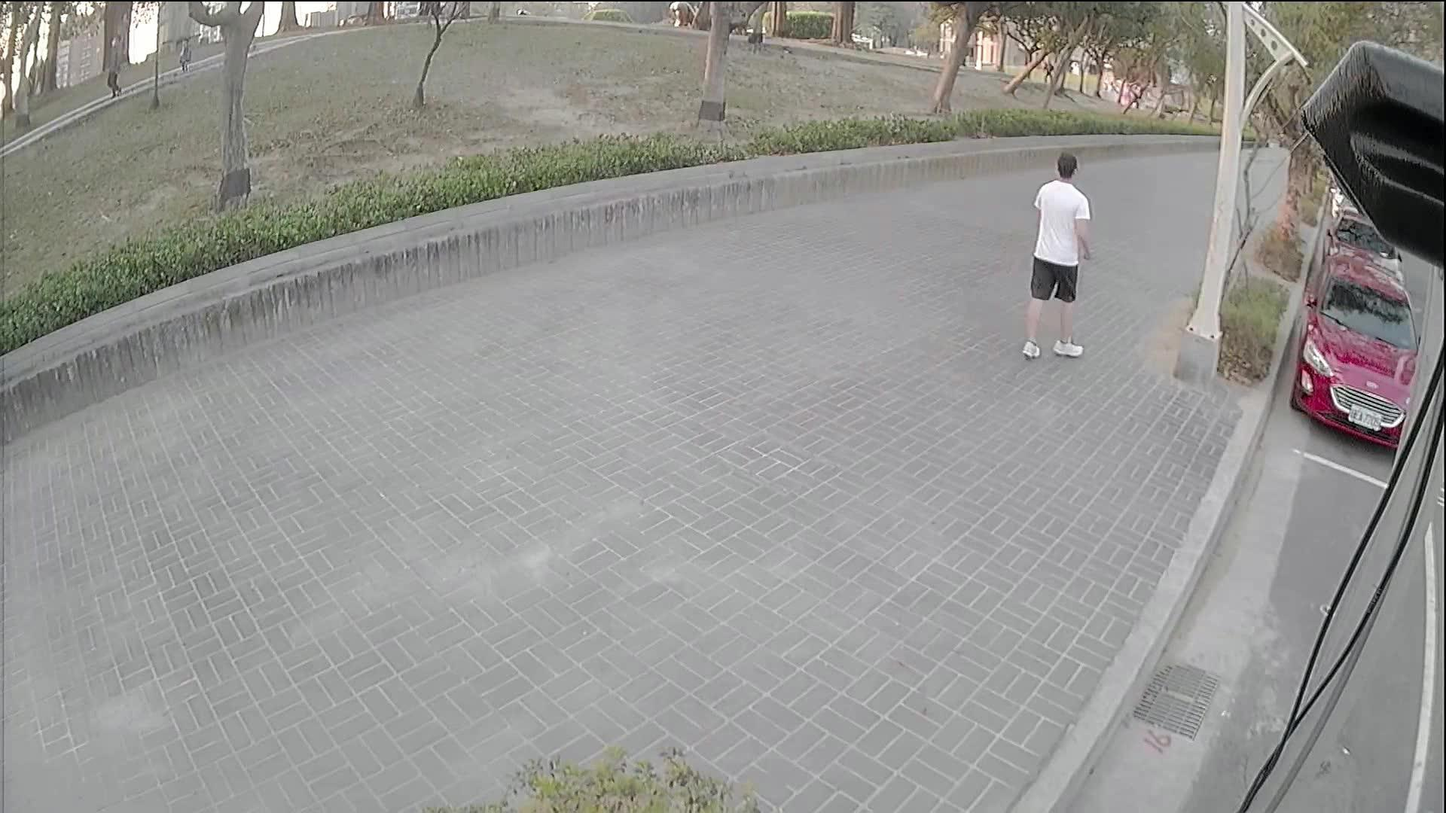person: (1024, 156, 1097, 369)
